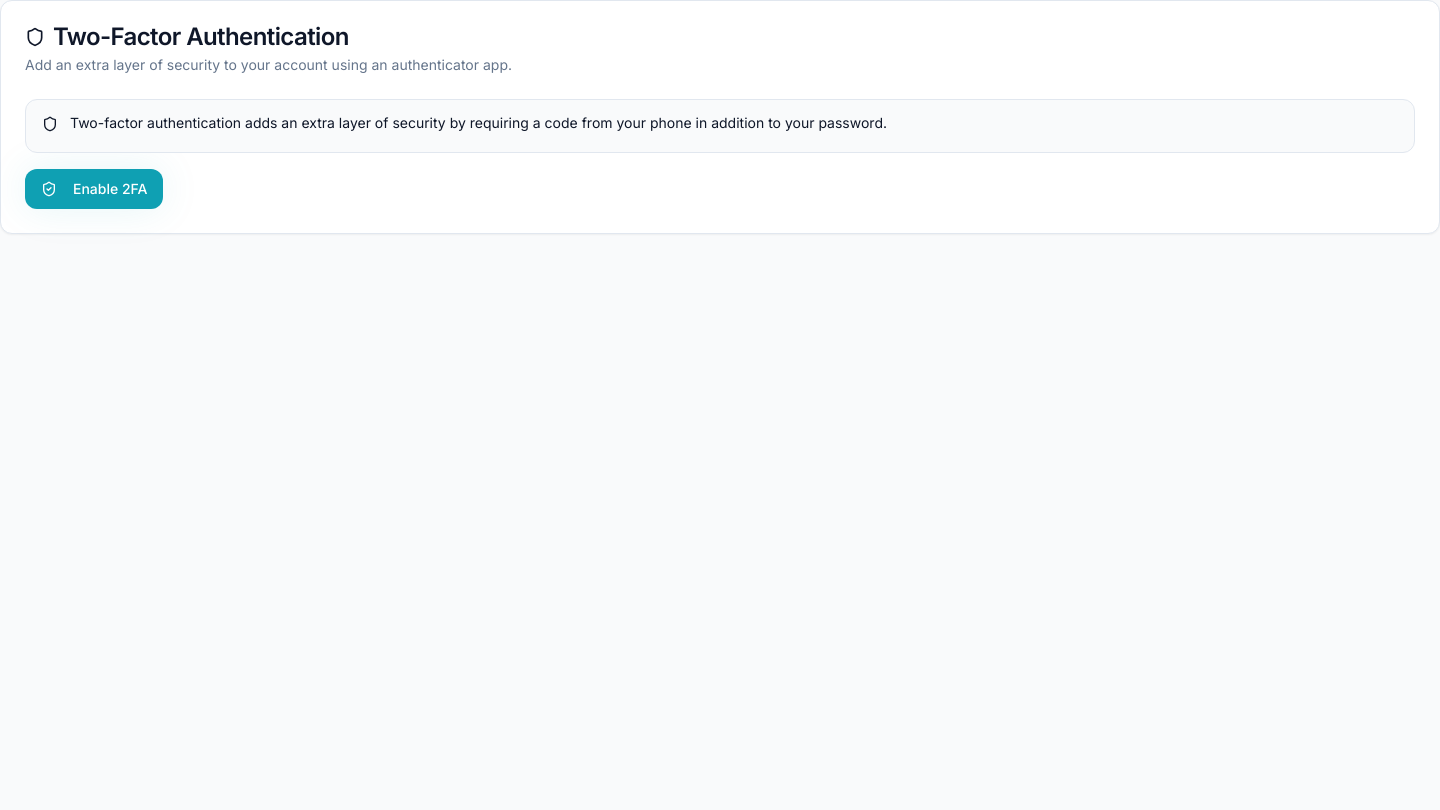
TwoFactorAuth › renders the QR image from server-provided data instead of a third-party URL
Click the button "Enable 2FA". click: x=94, y=189
box: [25,169,164,209]
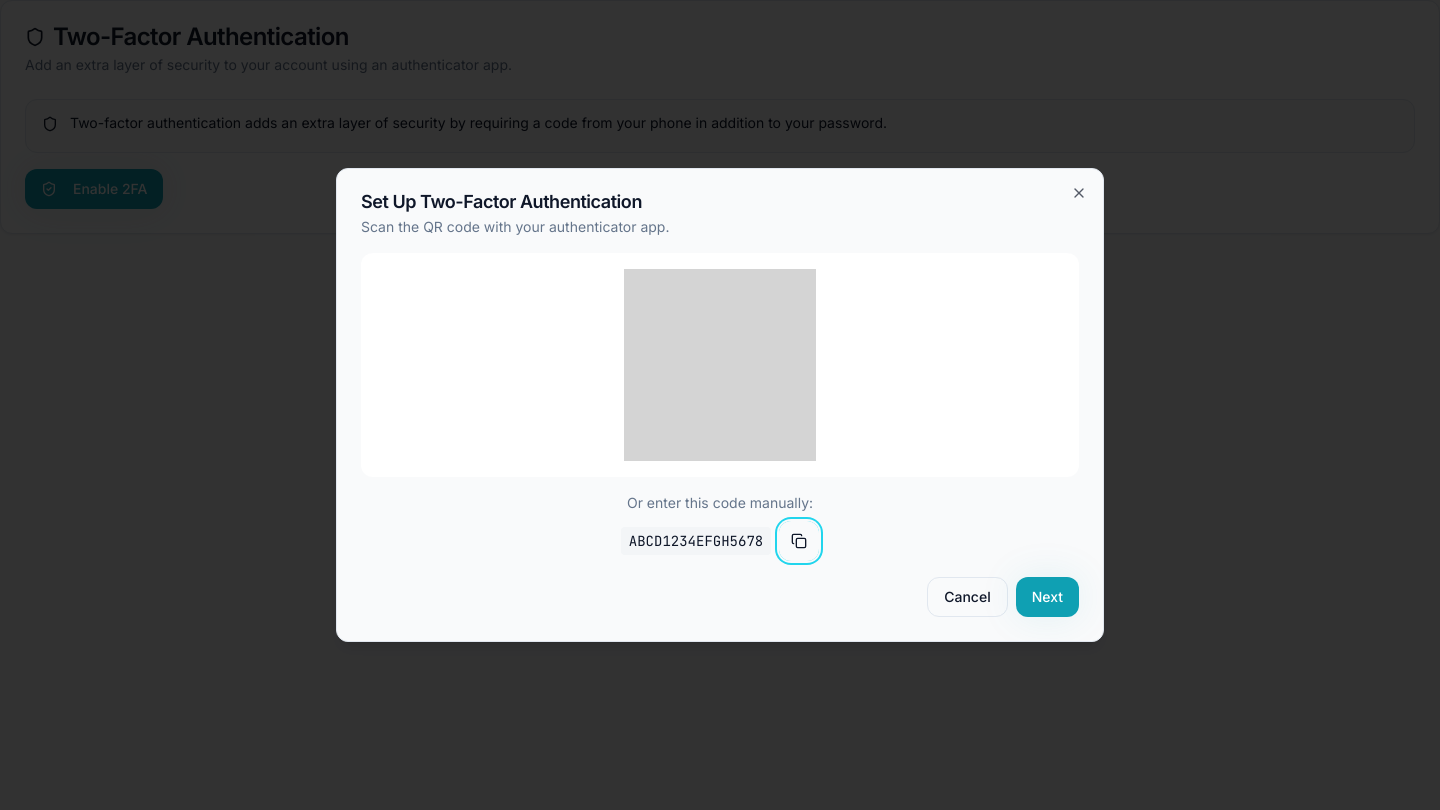
Expected: the text "ABCD1234EFGH5678" is shown, [621,527,771,555]
